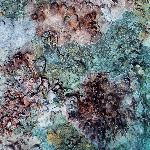dead: (2, 4, 146, 144)
